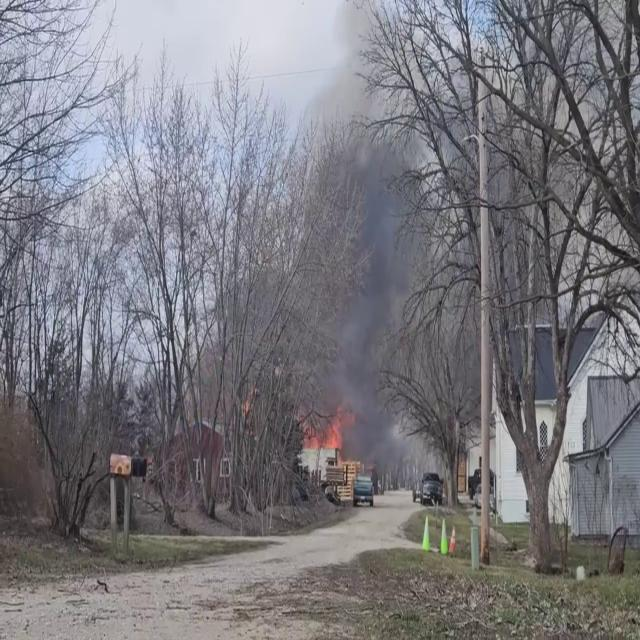Fire: (299, 414, 359, 472)
Smoke: (318, 130, 428, 456)
